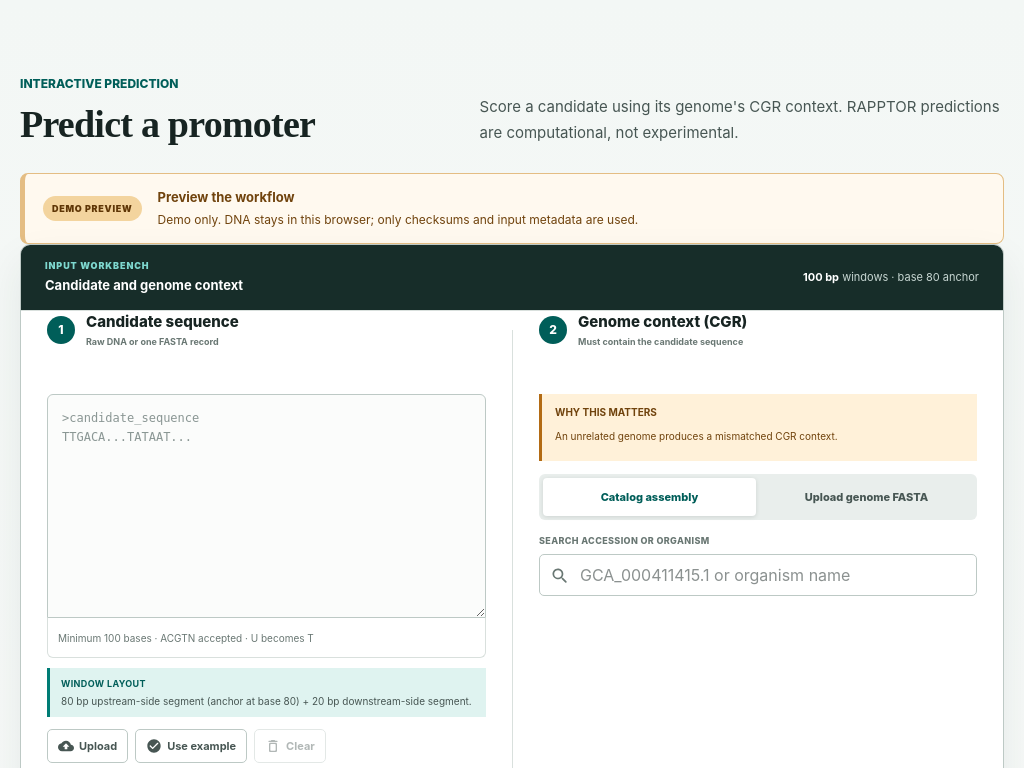
Scenario: prediction form › loads an example, reports normalized length, and switches to a local-only genome upload
Click the button "Use example". click: (191, 746)
box: [135,729,247,763]
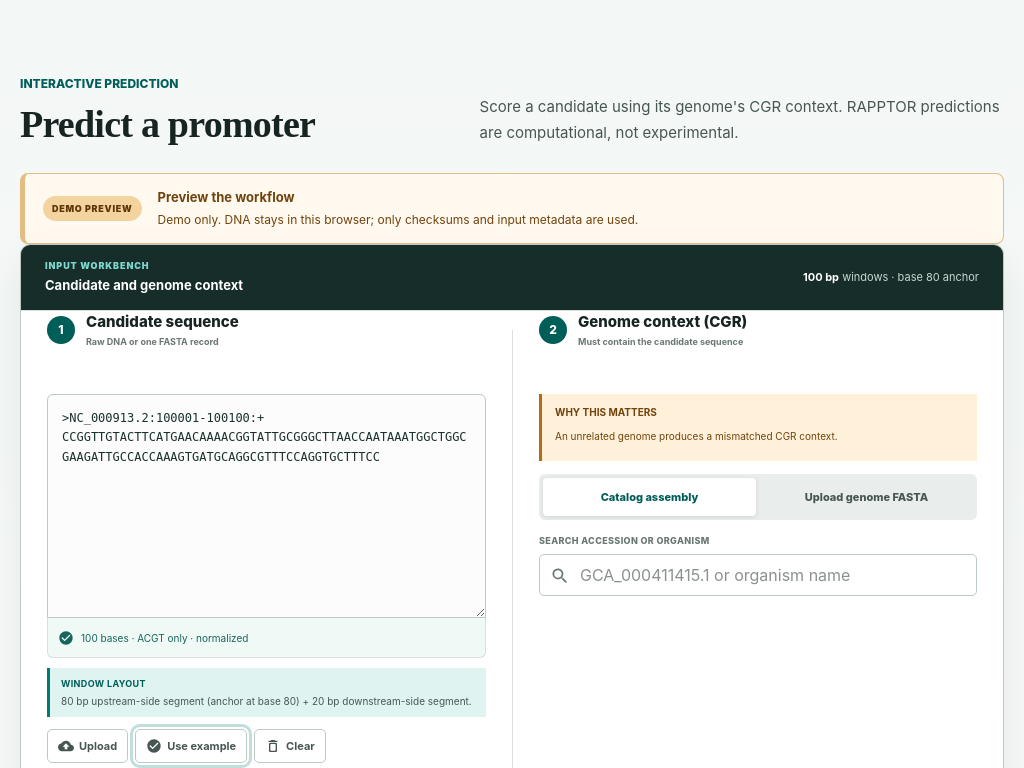
Expected: the text "100 bases · ACGT only · normalized" is shown, [81,631,248,645]
Click the tab "Upload genome FASTA". click: (866, 497)
box: [760,478,973,516]
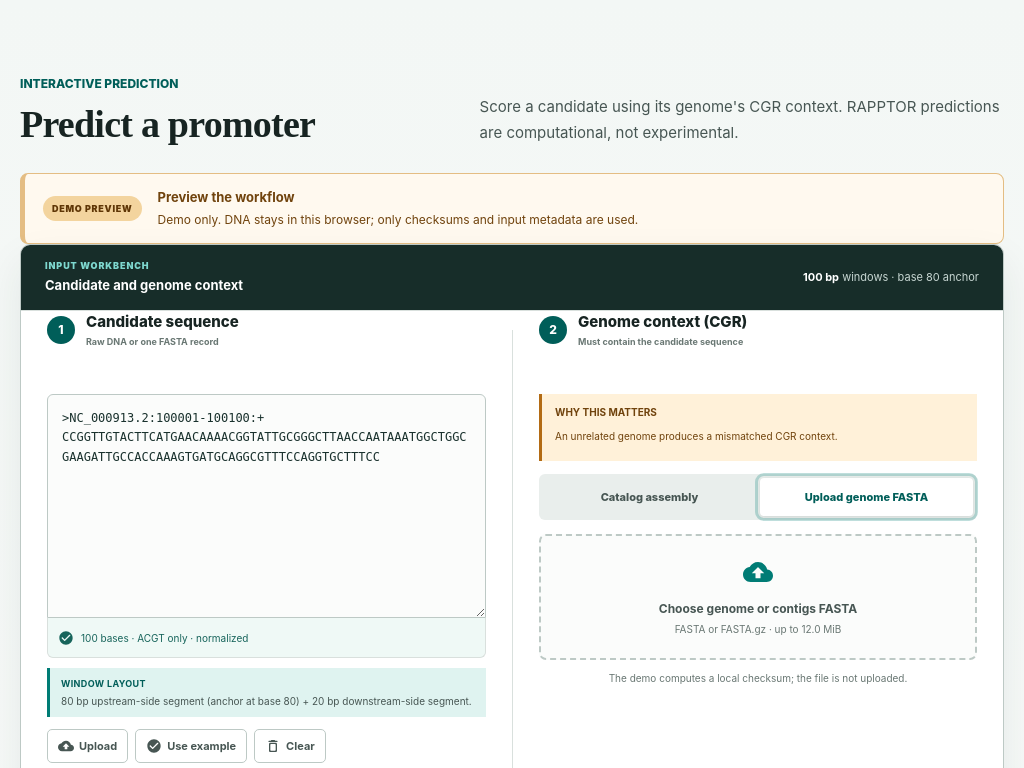
Expected: the text "The demo computes a local checksum; the file is not uploaded." is shown, [609,672,907,684]
Expected: the button "Choose genome or contigs FASTA" is shown, [539,534,977,660]
